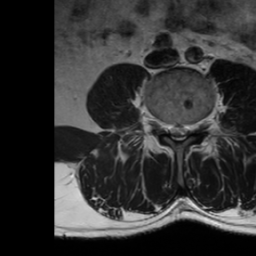CCS_stenosis: (173, 114, 182, 148)
LFS_normal: (190, 112, 199, 139)
LLS_normal: (182, 115, 190, 145)
RFS_normal: (156, 111, 165, 141)
RLS_normal: (165, 113, 173, 144)
